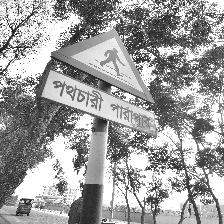Pedestrian-crossing: (38, 29, 157, 136)
